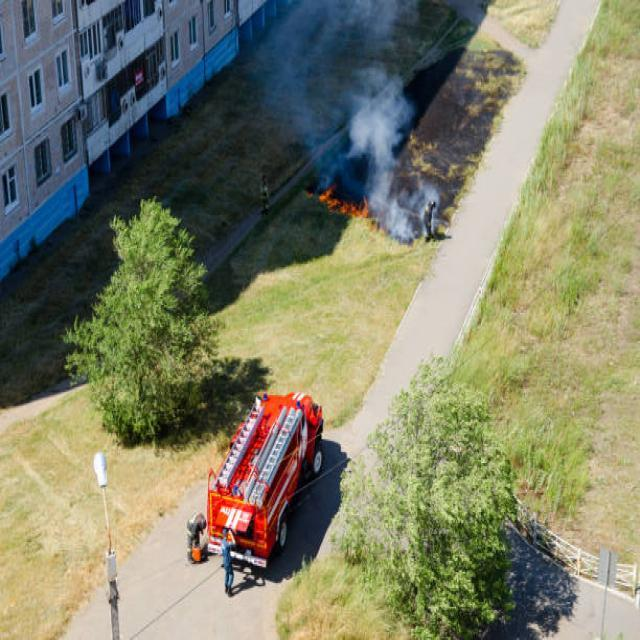Fire: (318, 181, 369, 219)
Smoke: (258, 0, 440, 245)
